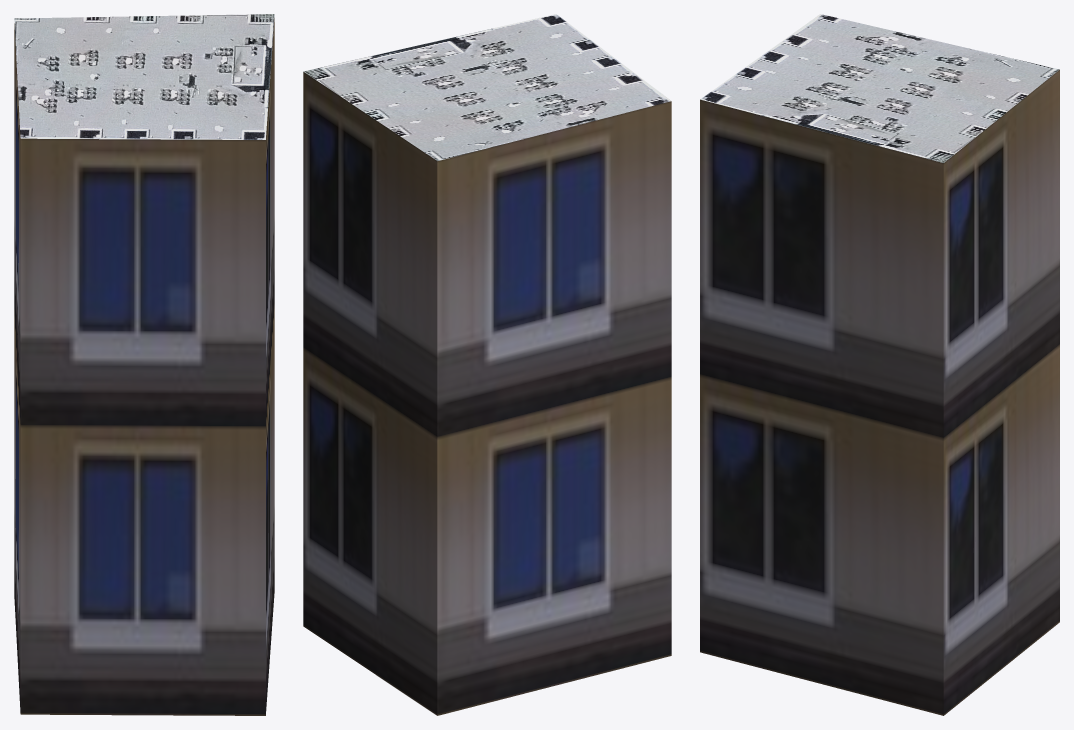
The model's file is ResTex__1204.fbx.
The picture shows the model from 3 angles, left to right: view 1: azimuth 30°, elevation 25°; view 2: azimuth 150°, elevation 25°; view 3: azimuth 270°, elevation 25°; orthographic projection. The views are drawn at different scales.
Visible parts, largest first — view 1: CityEngineMaterial_5_m, CityEngineMaterial_8_m; view 2: CityEngineMaterial_5_m, CityEngineMaterial_8_m; view 3: CityEngineMaterial_5_m, CityEngineMaterial_8_m.
Part boxes in pixels (x1,y1,x2,y2): CityEngineMaterial_5_m: [14, 18, 274, 715]; CityEngineMaterial_8_m: [14, 14, 274, 139]; CityEngineMaterial_5_m: [303, 72, 671, 715]; CityEngineMaterial_8_m: [303, 14, 671, 160]; CityEngineMaterial_5_m: [700, 70, 1059, 715]; CityEngineMaterial_8_m: [700, 14, 1059, 162].
Size of the model in its own units: 3.47 by 6 by 3.54.
Materials: 2 (2 with a texture image).
